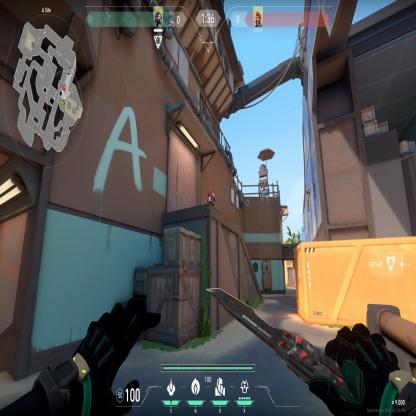enemy: (205, 186, 217, 209)
